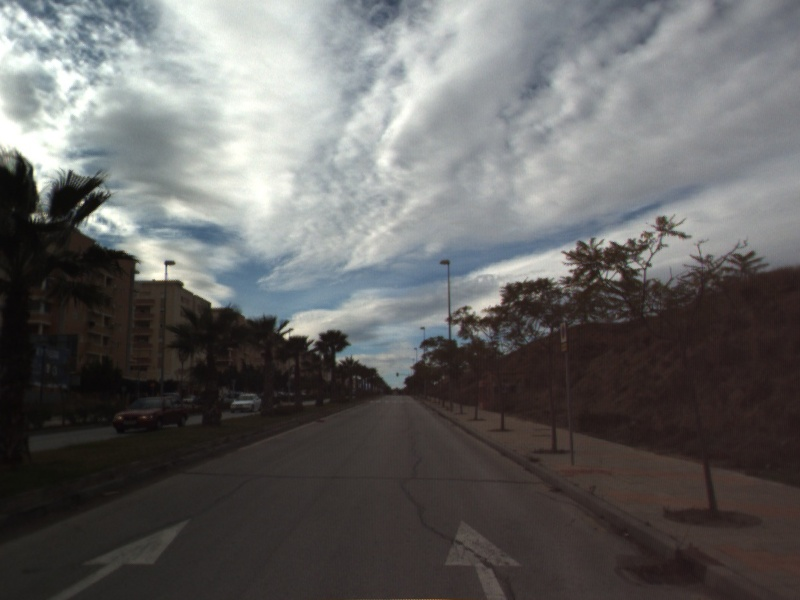STRAIGHT: (42, 516, 194, 600), (442, 517, 525, 600)
